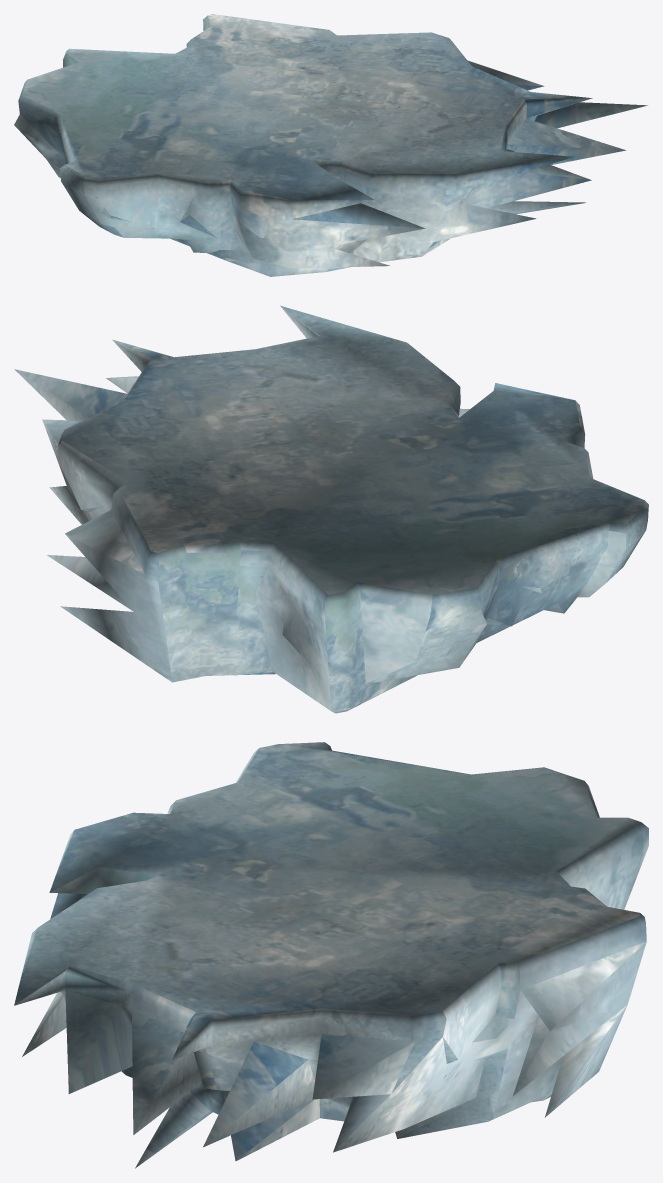
Rendered from iceman_fusion_cp_charged.glb.
3 views of the same model, one above another, from view 1: azimuth 30°, elevation 25°; view 2: azimuth 150°, elevation 25°; view 3: azimuth 270°, elevation 25° (orthographic). The views are drawn at different scales.
Visible parts, largest first — view 1: iceman_fusion_cp_charged_0; view 2: iceman_fusion_cp_charged_0; view 3: iceman_fusion_cp_charged_0.
Part boxes in pixels (x1,y1,x2,y2): iceman_fusion_cp_charged_0: (14, 14, 647, 276); iceman_fusion_cp_charged_0: (14, 305, 648, 713); iceman_fusion_cp_charged_0: (14, 742, 648, 1168).
Bounding box in the file's own units: 126 × 29.42 × 95.06.
Materials: 1 (1 with a texture image).
